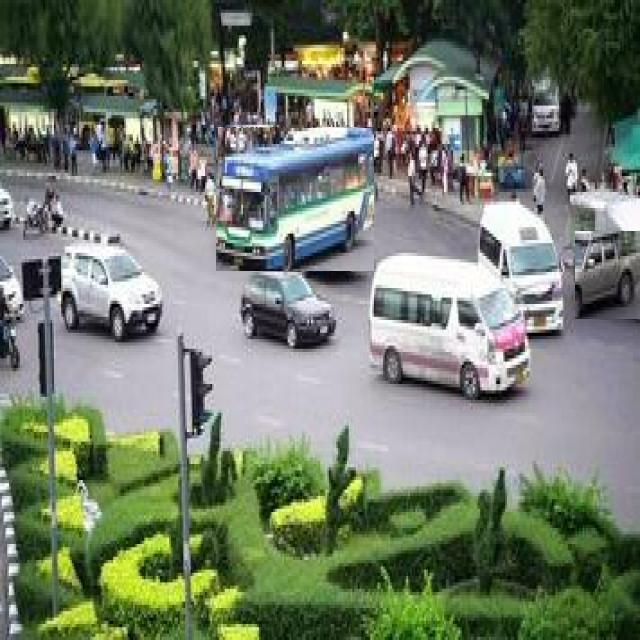bus: (216, 127, 374, 271), (370, 254, 530, 395), (479, 202, 564, 332)
car: (60, 247, 162, 339), (240, 271, 335, 346), (575, 232, 640, 319)
